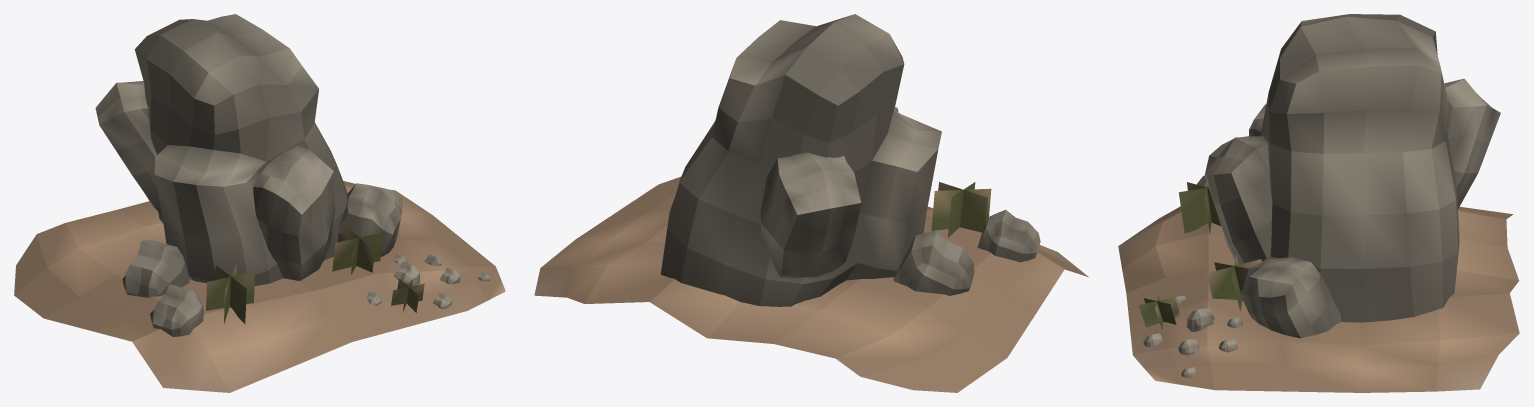
The model's file is Rock_Vegetation - Copia 1.fbx.
3 renders of one model, left to right at view 1: azimuth 30°, elevation 25°; view 2: azimuth 150°, elevation 25°; view 3: azimuth 270°, elevation 25°, orthographic. The views are drawn at different scales.
Visible parts, largest first — view 1: Rokc_Vegetation01_LOD0; view 2: Rokc_Vegetation01_LOD0; view 3: Rokc_Vegetation01_LOD0.
Part boxes in pixels (bbox=[...]): Rokc_Vegetation01_LOD0: bbox=[14, 14, 505, 392]; Rokc_Vegetation01_LOD0: bbox=[534, 14, 1088, 392]; Rokc_Vegetation01_LOD0: bbox=[1118, 14, 1519, 392].
Size of what is drawn, in the model's own units: 134 by 86.16 by 113.
